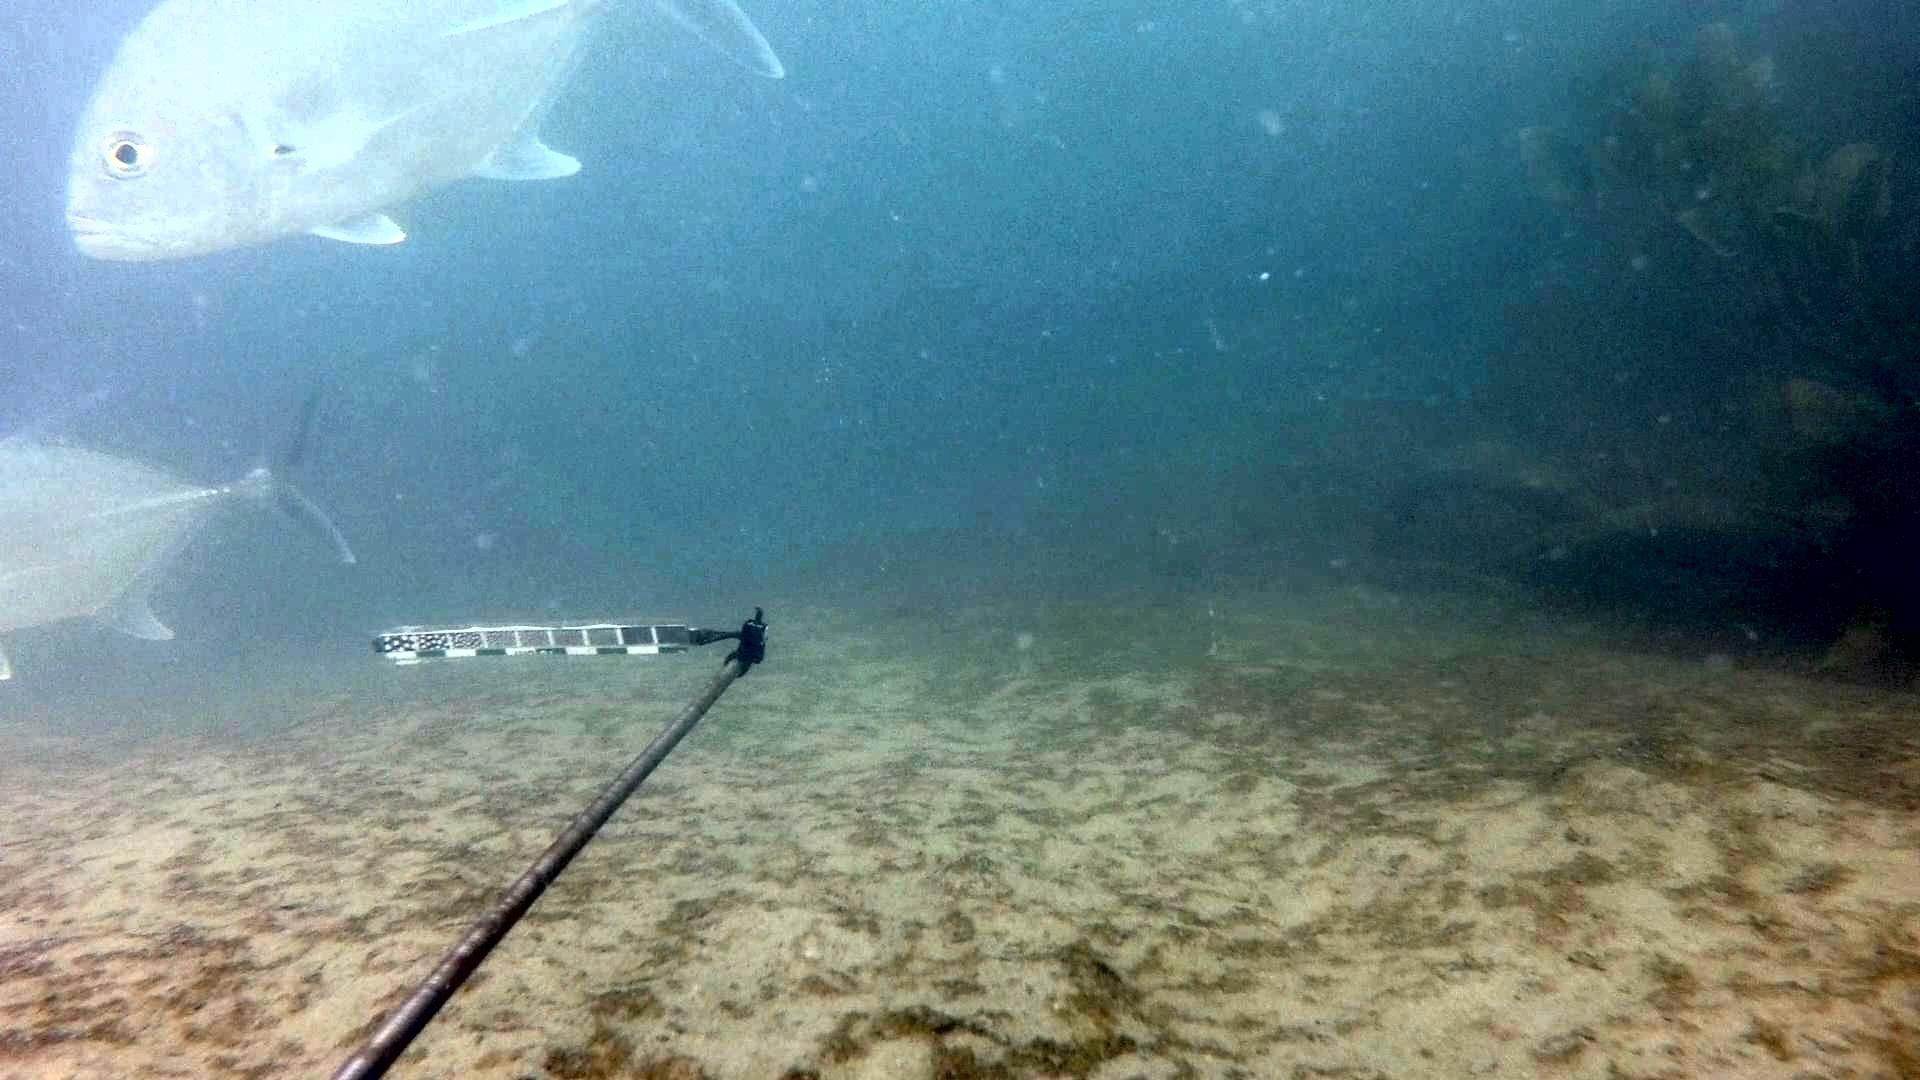caranx: (58, 0, 798, 270), (0, 363, 363, 694)
